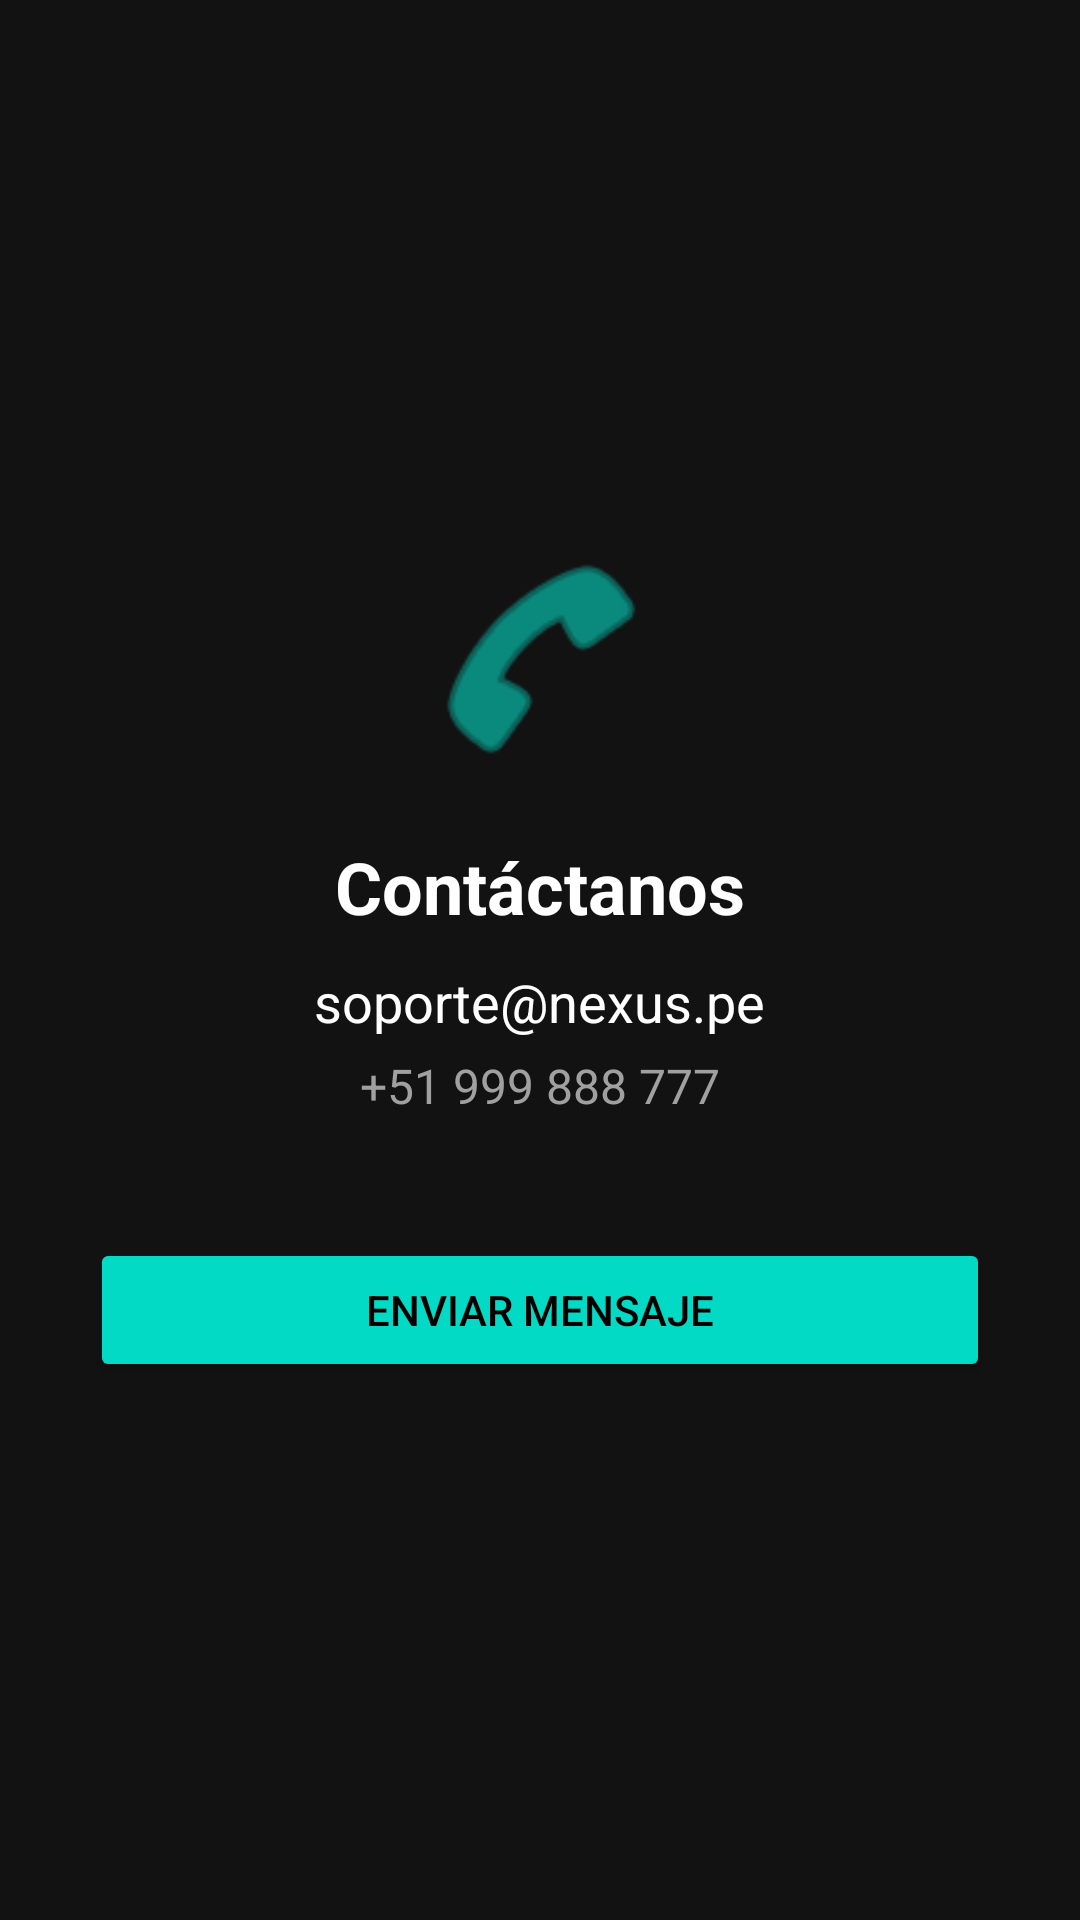

Named icons in this screenshot (1080x1920) and their centers, (x=x, y=y):
call: (x=541, y=659)
